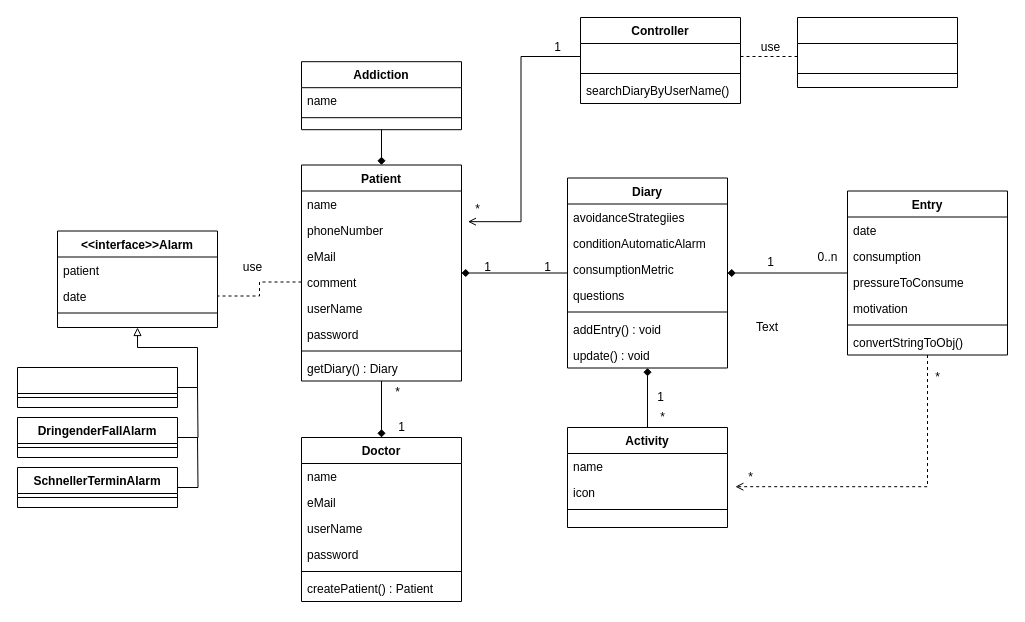
Some shapes in this 1025 by 622 pixel diagram are drawn without their labels. The centre of each missing label's shape, as x and y in pixels:
FileManager: (877,52)
NotrufAlarm: (97,387)
